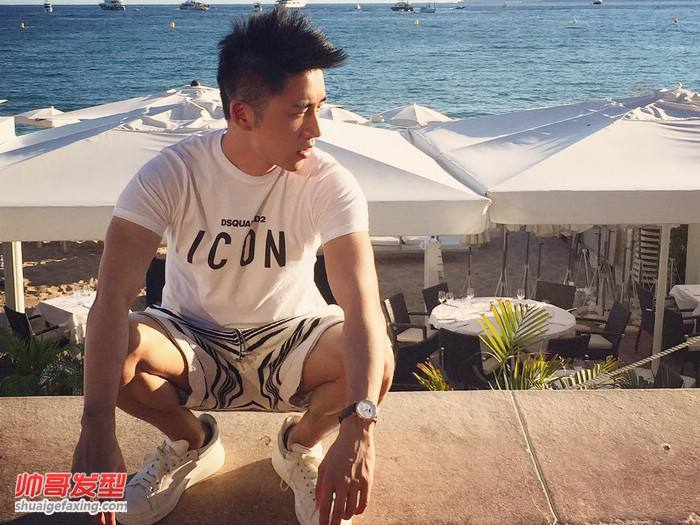person: (106, 8, 405, 502)
